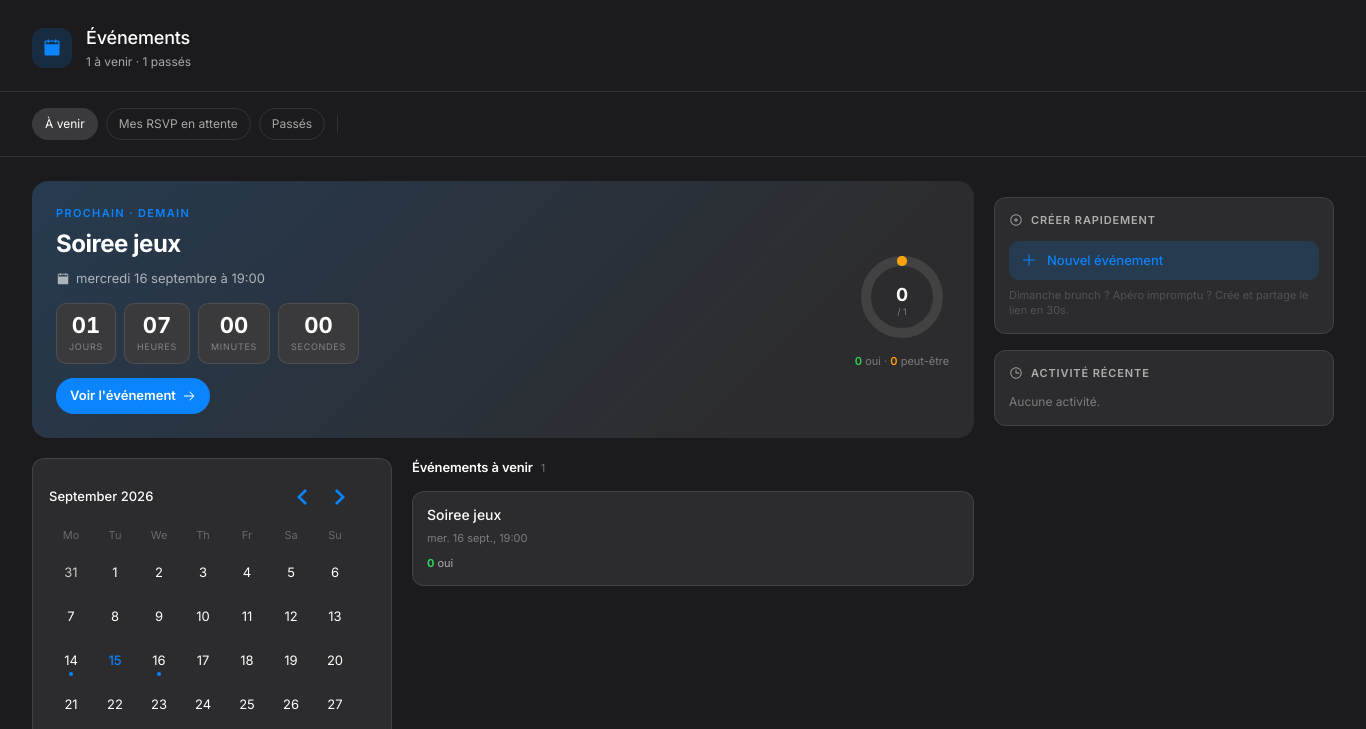
EventsDashboard — le calendrier montre le passé comme le futur › garde le chip « Passés » fonctionnel pour filtrer la liste
Click the button "Passés". click: [292, 124]
box: left=259, top=108, right=325, bottom=140
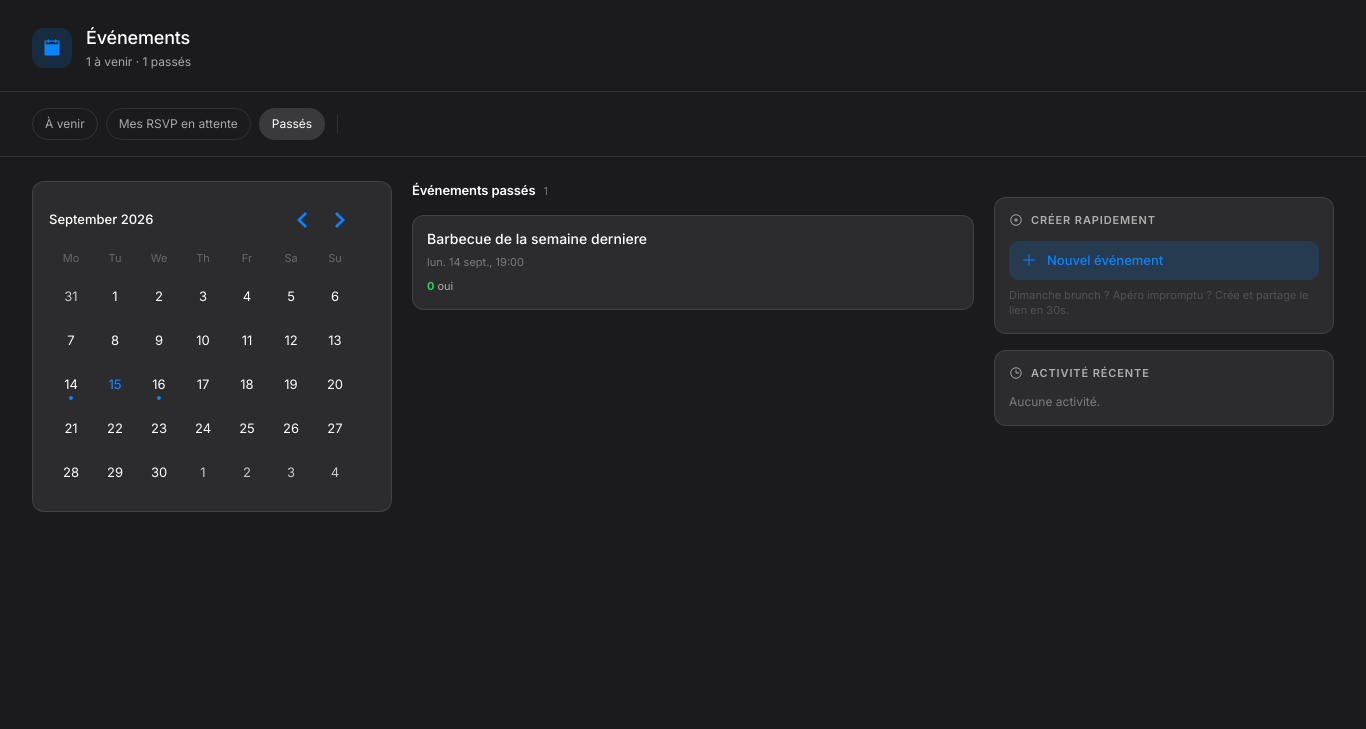
Result: the text "Barbecue de la semaine derniere" is shown at left=427, top=230, right=647, bottom=248
